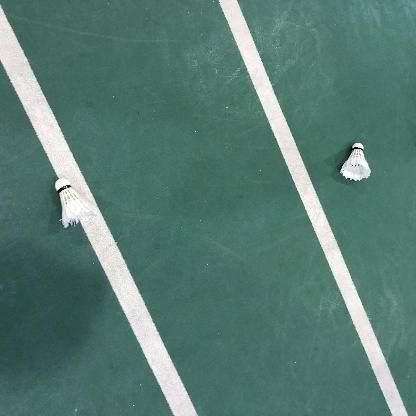ball_single: (55, 178, 97, 228), (340, 143, 371, 181)
